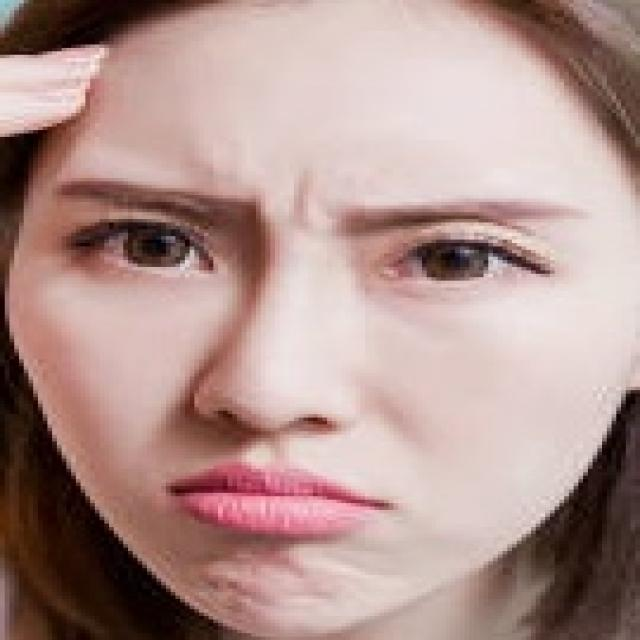Anxiety: (2, 0, 635, 637)
